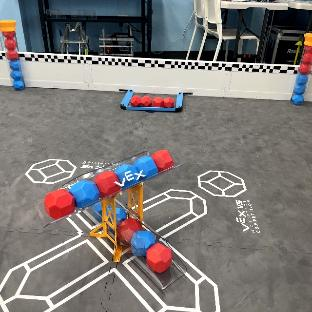V5_BLUE: (70, 180, 99, 206), (132, 230, 154, 254), (292, 74, 308, 104), (133, 156, 157, 175)
V5_RED: (44, 189, 74, 218), (146, 242, 171, 273), (94, 170, 120, 196), (152, 150, 173, 171), (299, 46, 312, 74), (5, 33, 18, 58)
